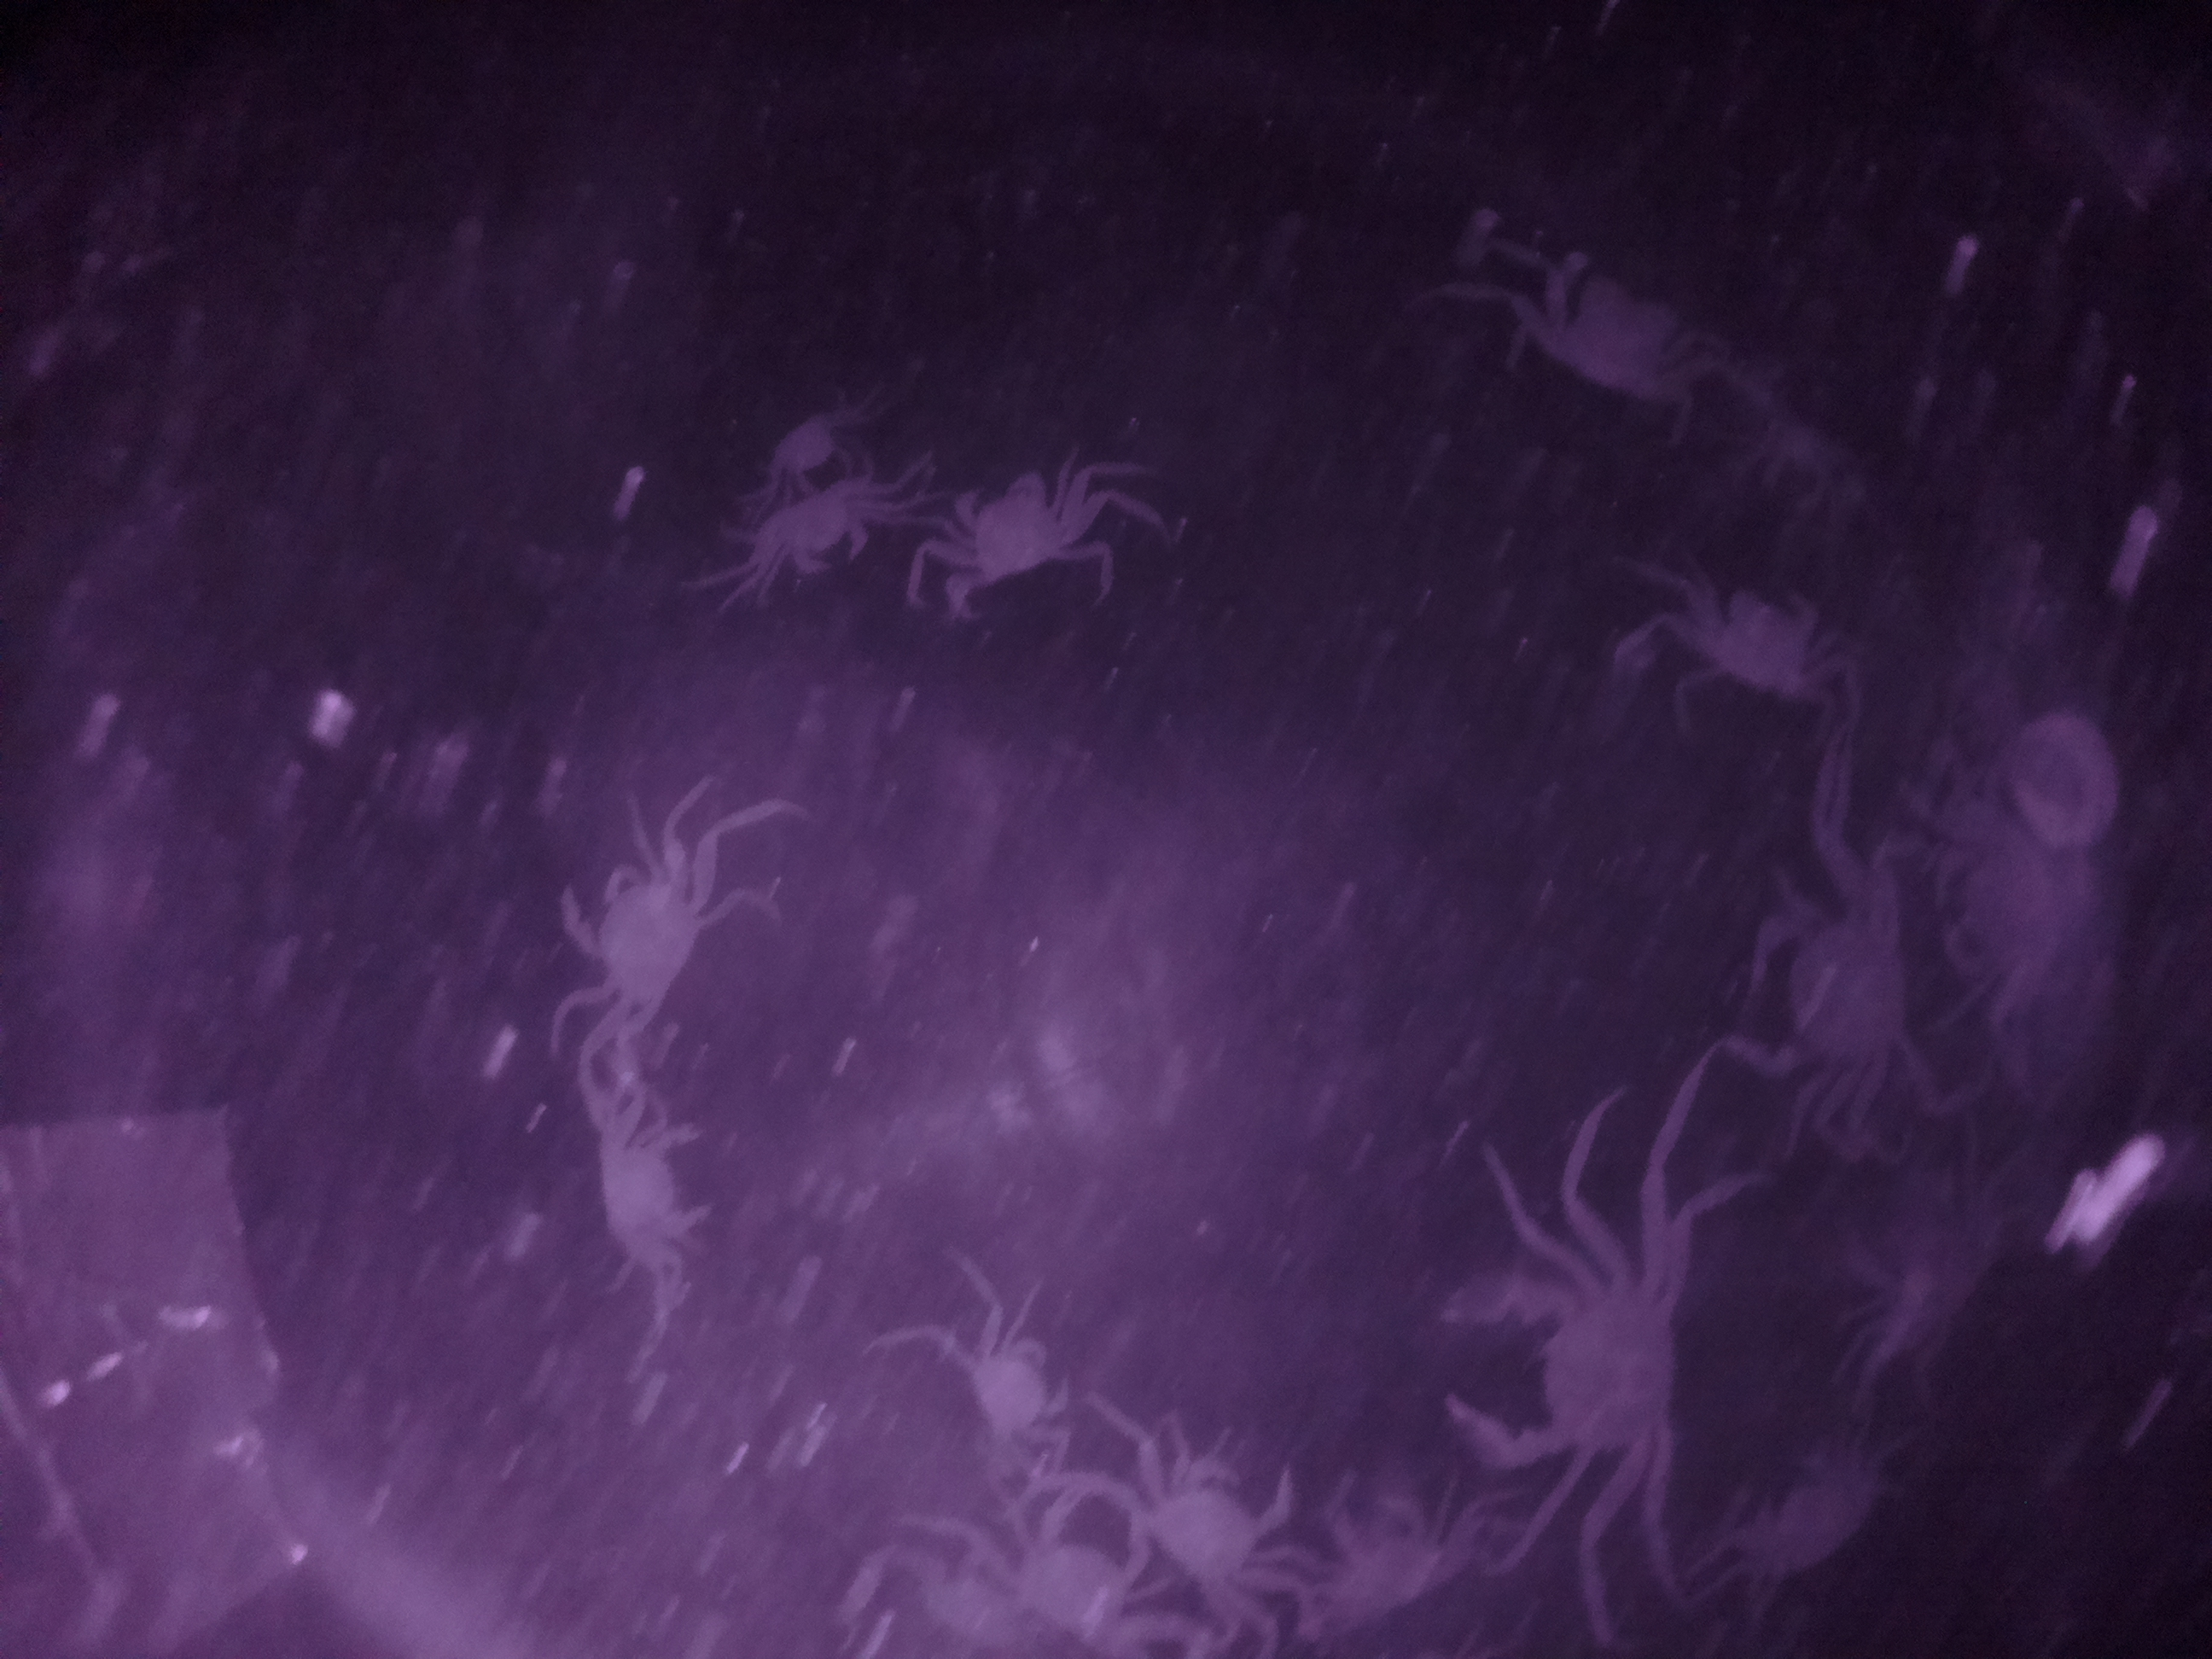Crab: (1430, 1243, 1695, 1474), (1693, 857, 1935, 1105), (543, 829, 728, 1030), (577, 1098, 740, 1256), (935, 455, 1097, 612), (745, 457, 887, 599), (932, 1326, 1075, 1466)
